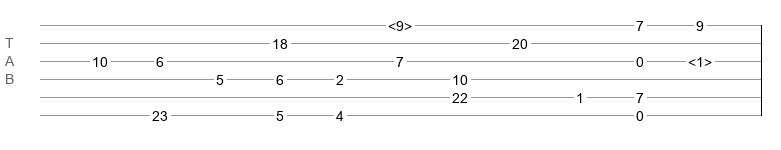0: (636, 108, 644, 118), (636, 54, 644, 64)
1: (576, 90, 584, 100)
10: (92, 54, 108, 64), (452, 72, 468, 82)
18: (272, 36, 288, 46)
2: (336, 72, 344, 82)
20: (512, 36, 528, 46)
22: (452, 90, 468, 100)
23: (152, 108, 168, 118)
4: (336, 108, 344, 118)
5: (216, 72, 224, 82), (276, 108, 284, 118)
6: (156, 54, 164, 64), (276, 72, 284, 82)
7: (396, 54, 404, 64), (636, 90, 644, 100), (636, 18, 644, 28)
9: (696, 18, 704, 28)
harmonic: (388, 18, 412, 28), (688, 54, 712, 64)
